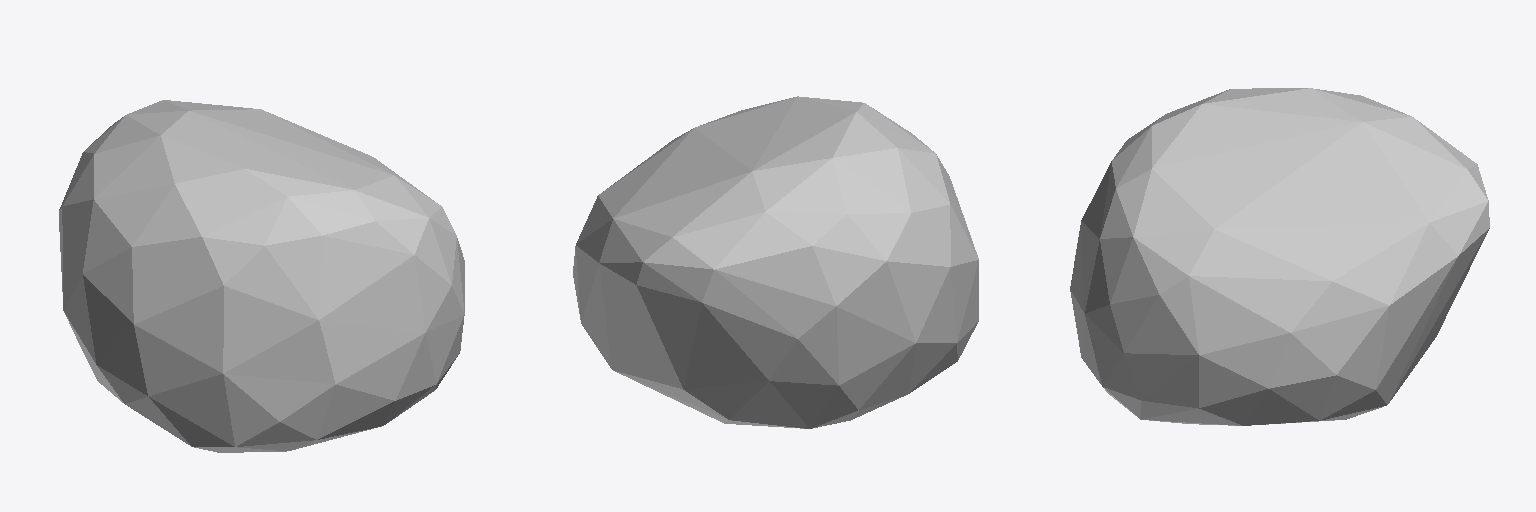
Rendered from rock.obj.
The picture shows the model from 3 angles: view 1: azimuth 30°, elevation 25°; view 2: azimuth 150°, elevation 25°; view 3: azimuth 270°, elevation 25°; orthographic projection.
Parts seen in each view (by area): view 1: Rock8_Cube.008; view 2: Rock8_Cube.008; view 3: Rock8_Cube.008.
Boxes of the visible parts, x1=… form: Rock8_Cube.008: x1=59, y1=100, x2=464, y2=452; Rock8_Cube.008: x1=573, y1=96, x2=978, y2=428; Rock8_Cube.008: x1=1070, y1=88, x2=1489, y2=425.
Size of the model in its own units: 3.61 by 2.5 by 3.69.